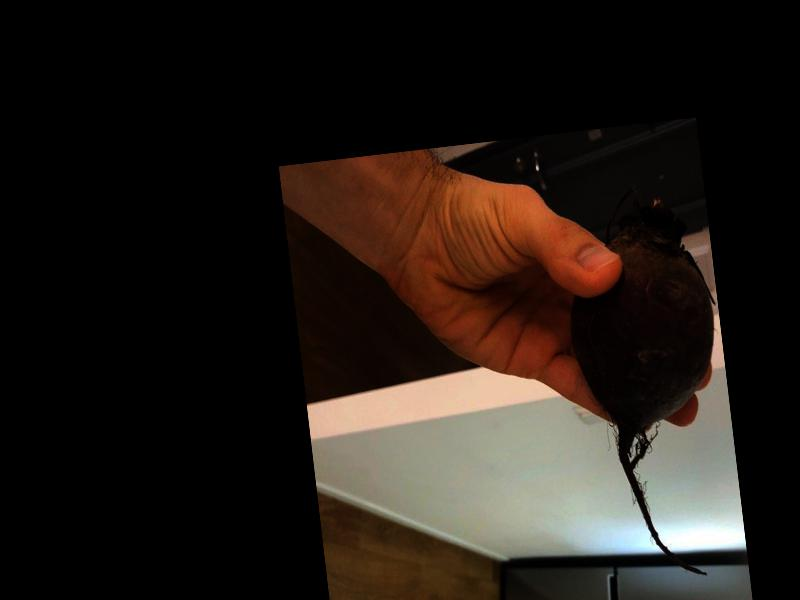Beet: (558, 179, 745, 585)
